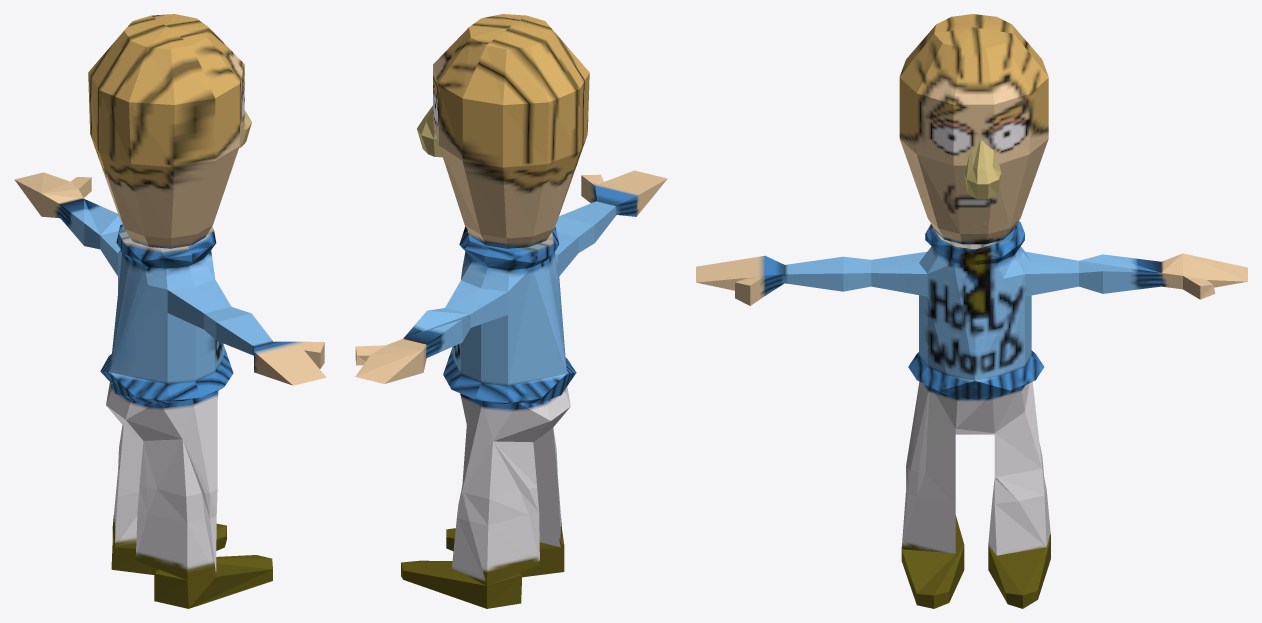
File: Pipbak.glb
The picture shows the model from 3 angles, left to right: view 1: azimuth 30°, elevation 25°; view 2: azimuth 150°, elevation 25°; view 3: azimuth 270°, elevation 25°; orthographic projection.
Visible parts, largest first — view 1: Pipbak; view 2: Pipbak; view 3: Pipbak.
Boxes of the visible parts, x1=… form: Pipbak: x1=14, y1=14, x2=326, y2=608; Pipbak: x1=355, y1=14, x2=667, y2=608; Pipbak: x1=696, y1=14, x2=1247, y2=608.
Size of the model in its own units: 33.96 by 116 by 107.
1 material, 1 textured.
